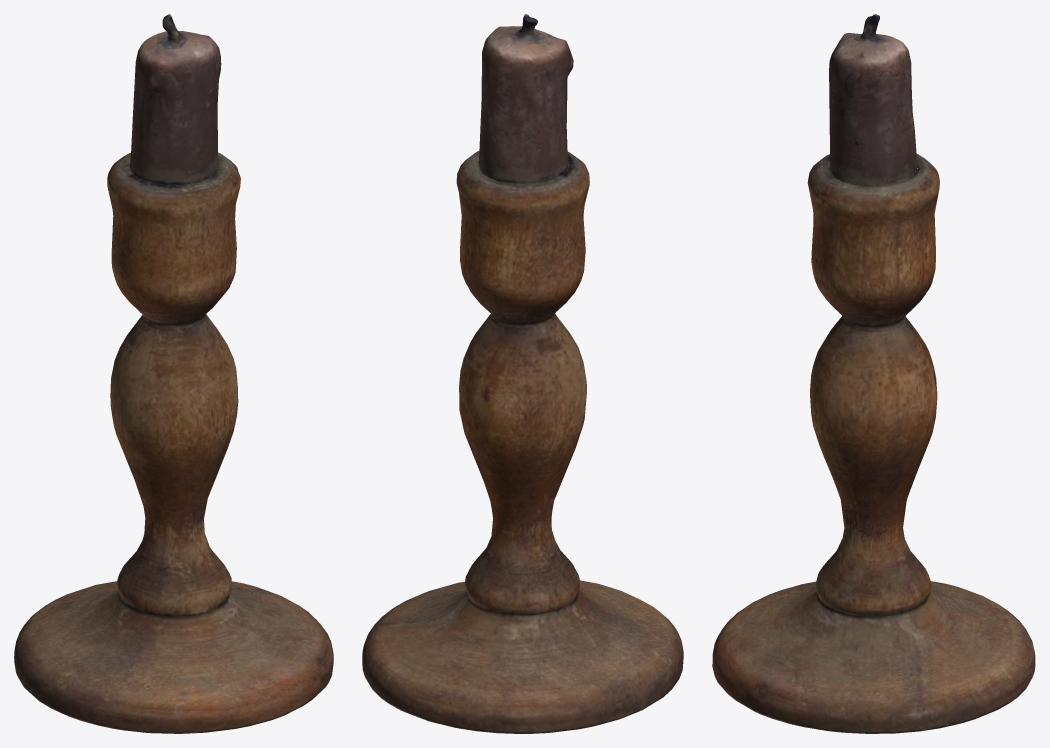
The model's file is wooden_candlestick_1k-slim.glb.
The picture shows the model from 3 angles, left to right: view 1: azimuth 30°, elevation 25°; view 2: azimuth 150°, elevation 25°; view 3: azimuth 270°, elevation 25°; orthographic projection.
Parts seen in each view (by area): view 1: wooden_candlestick; view 2: wooden_candlestick; view 3: wooden_candlestick.
Boxes of the visible parts, x1,y1,x2,y2 form: wooden_candlestick: [14, 14, 333, 733]; wooden_candlestick: [362, 14, 683, 733]; wooden_candlestick: [712, 14, 1035, 733].
Bounding box in the file's own units: 0.0972 × 0.2196 × 0.0986.
1 material, 1 textured.
